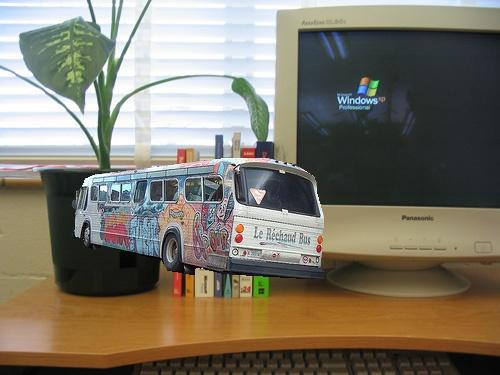tampered: (72, 159, 324, 279)
